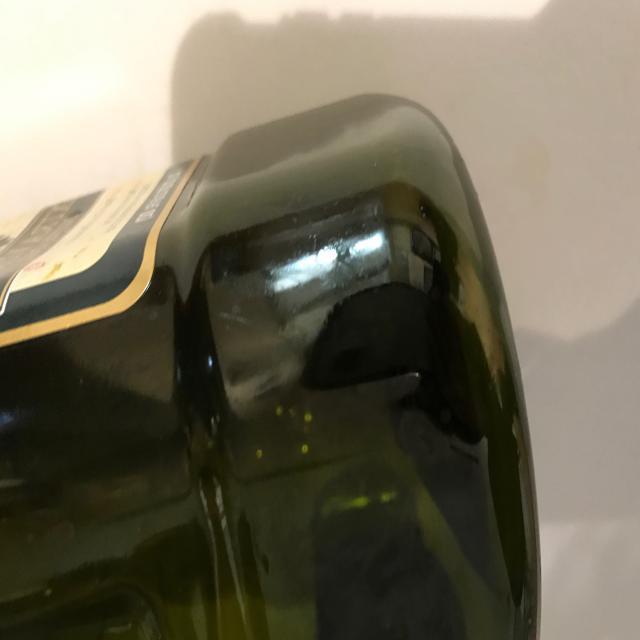plastic: (0, 90, 543, 640)
